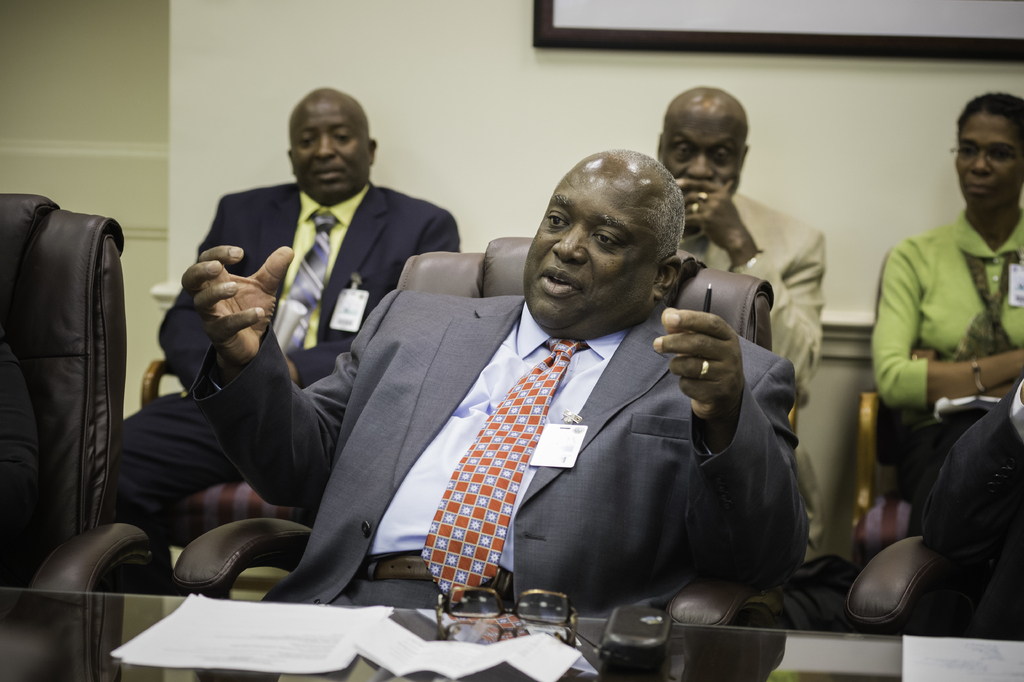Human_hand: (178, 244, 296, 375), (667, 305, 757, 413), (674, 178, 754, 253), (911, 345, 940, 361)
